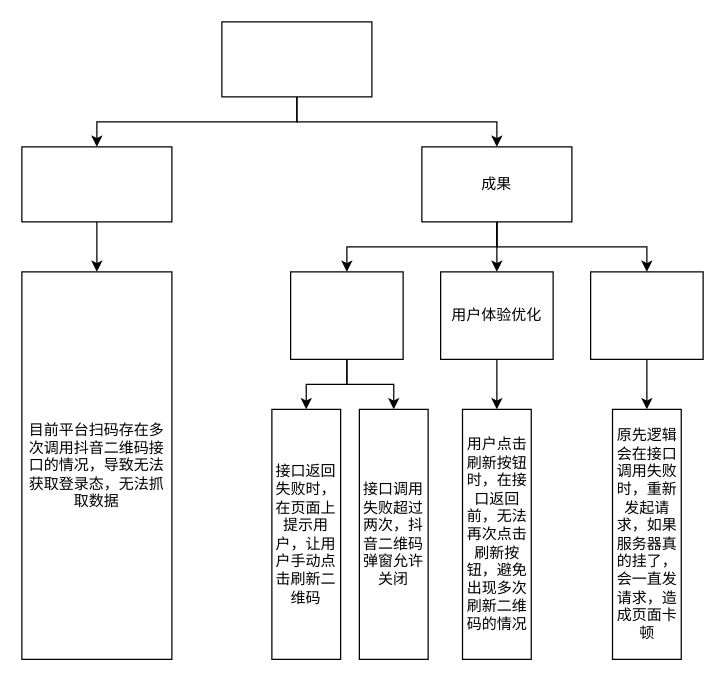
Image size: 725x681. Some labels were removed from this diagram. Each missing label, with the centre of its shape:
交互流程优化: pixel 346 315
优化二维码扫码效果: pixel 296 59
请求逻辑优化: pixel 646 315
需求背景: pixel 96 184
